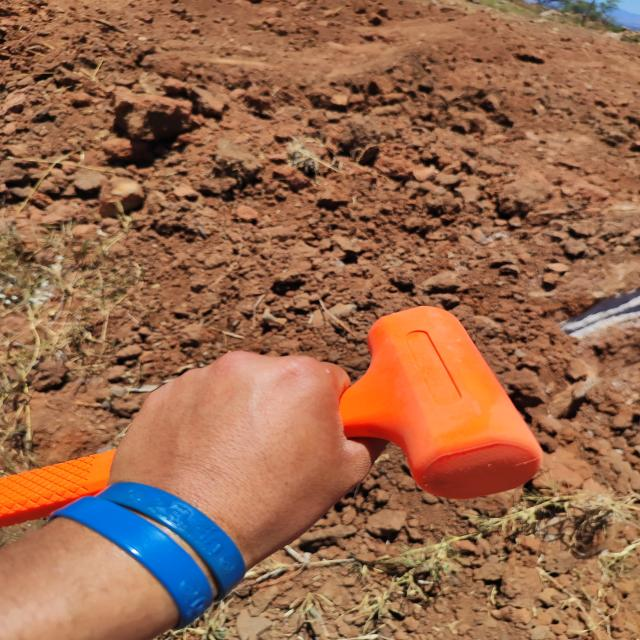Orange_hammer: (1, 304, 544, 529)
